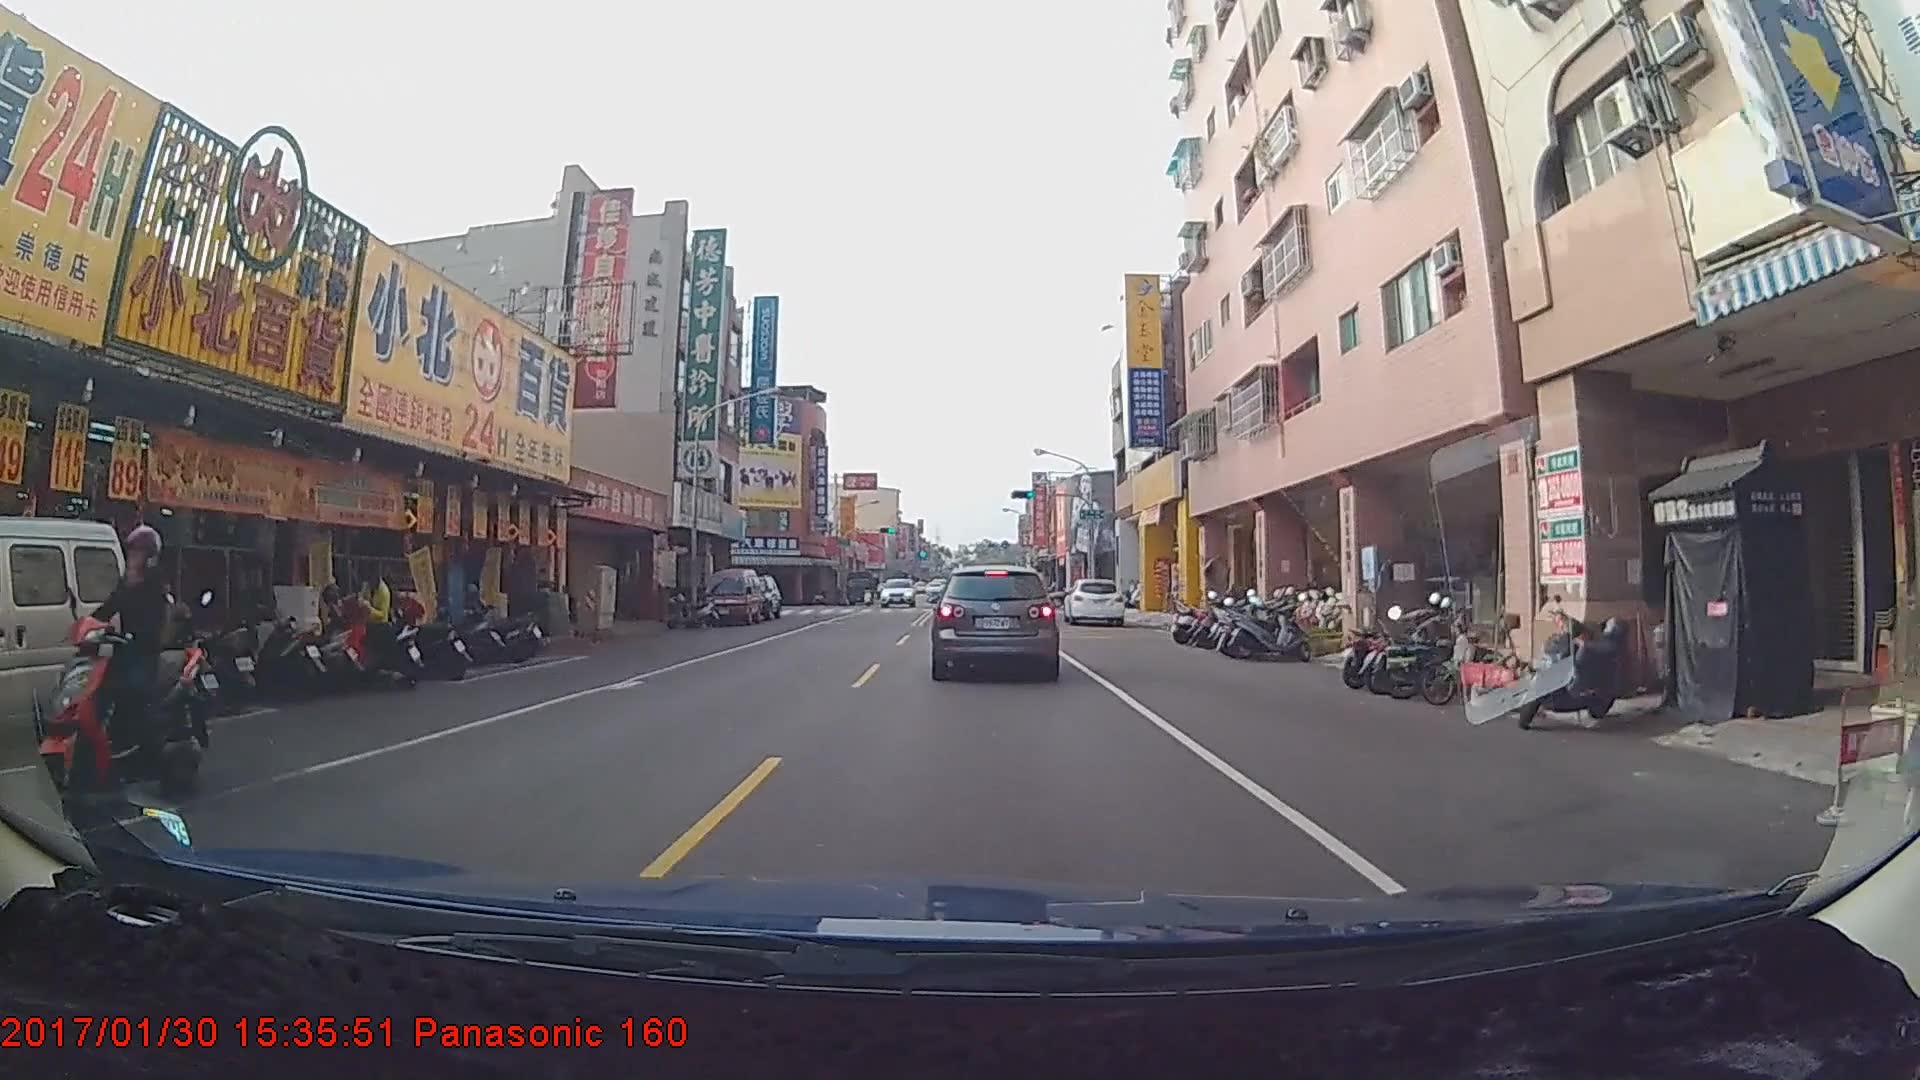pedestrian: (349, 565, 394, 670)
rider: (25, 527, 207, 825)
vehicle: (0, 517, 136, 761), (933, 562, 1059, 679), (703, 568, 763, 628), (1063, 577, 1126, 627), (877, 573, 919, 611)
